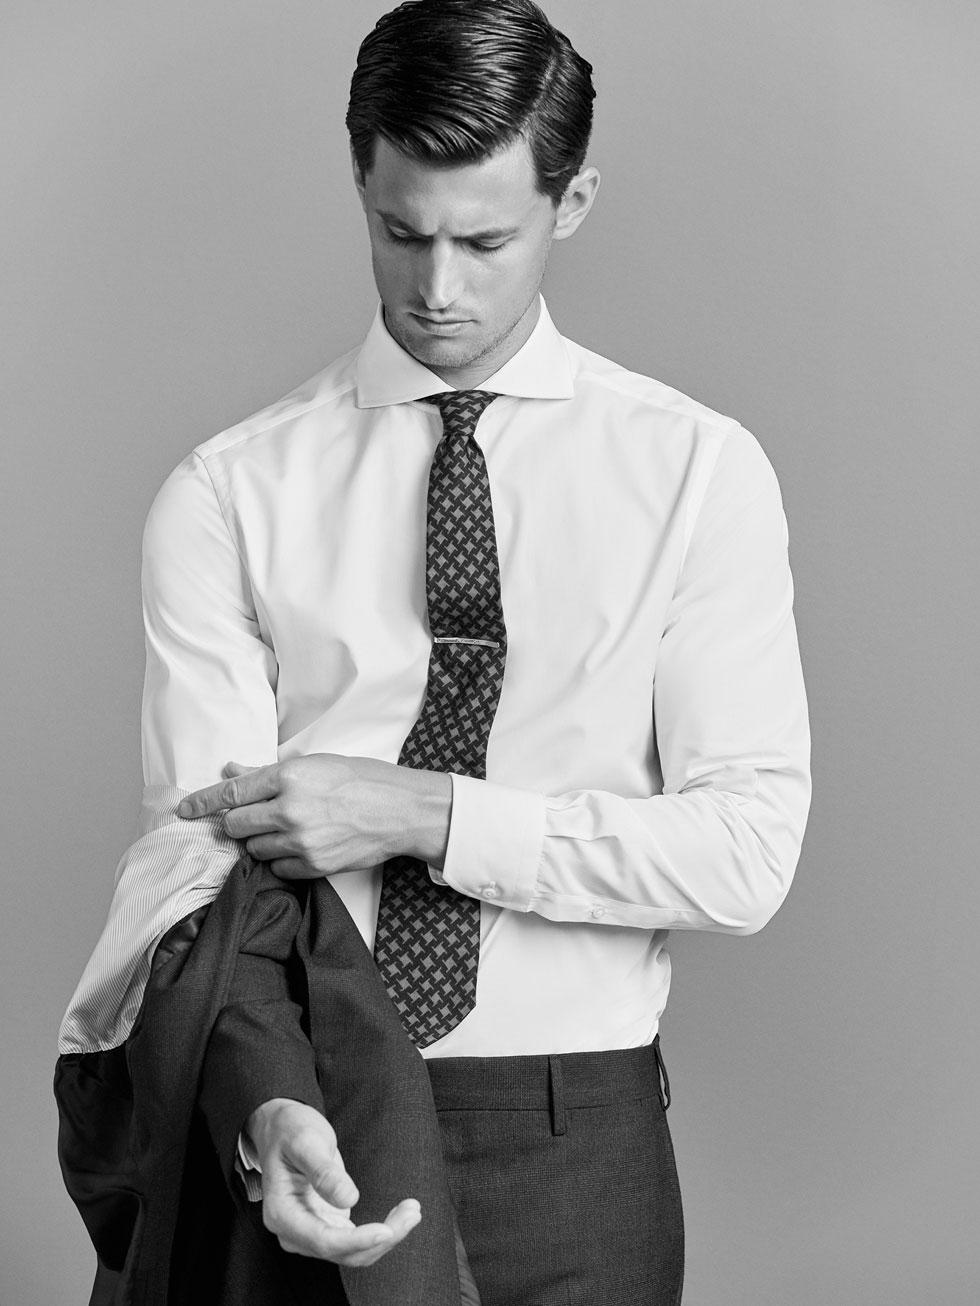teeshirt: (97, 287, 825, 1103)
